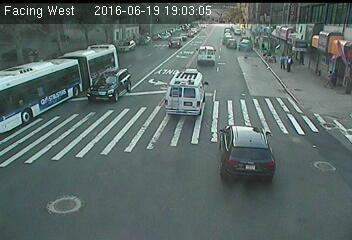neg: (215, 36, 237, 66), (128, 43, 145, 66), (182, 36, 198, 58), (244, 90, 257, 107)
pos: (272, 50, 288, 71), (319, 68, 333, 87), (285, 54, 298, 72)
